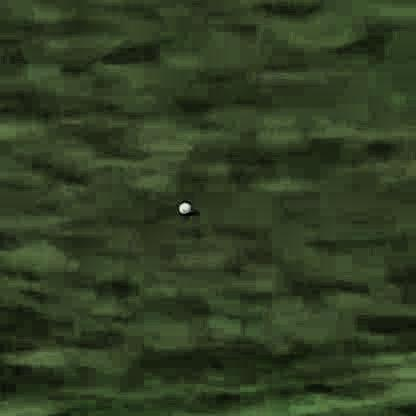golfball: (174, 201, 193, 217)
